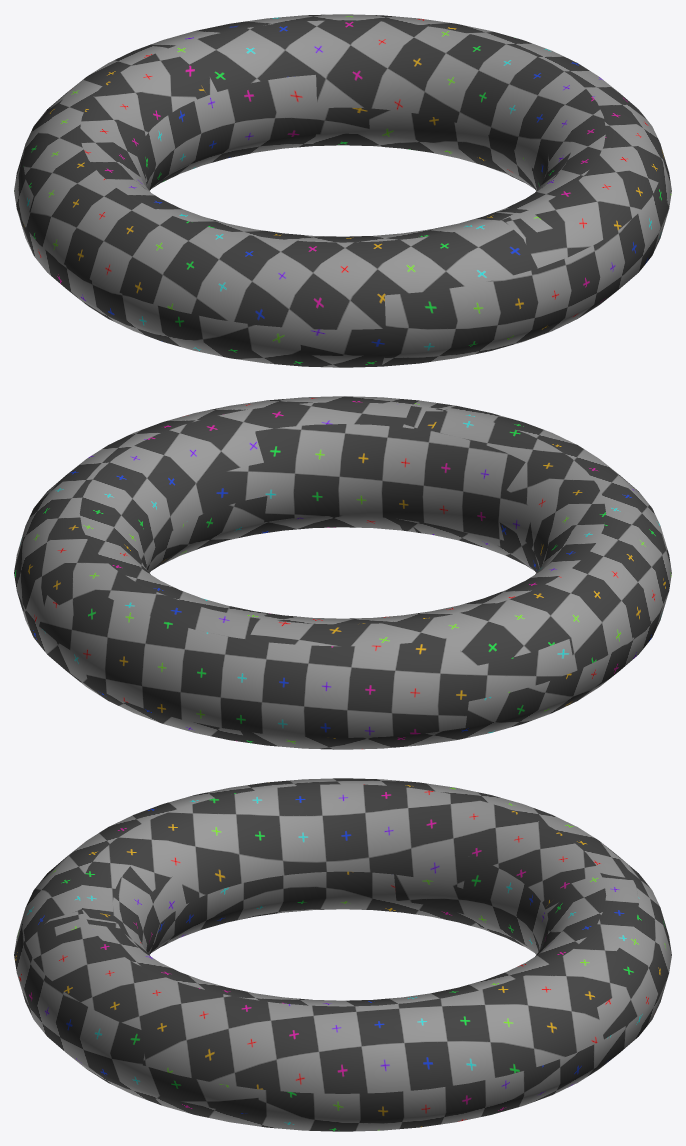
3 renders of one model, top to bottom at view 1: azimuth 30°, elevation 25°; view 2: azimuth 150°, elevation 25°; view 3: azimuth 270°, elevation 25°, orthographic.
Visible parts, largest first — view 1: Torus; view 2: Torus; view 3: Torus.
Part boxes in pixels (x1,y1,x2,y2): Torus: (14,14,671,367); Torus: (14,396,671,749); Torus: (14,778,671,1131).
Size of the model in its own units: 2.5 by 0.5 by 2.5.
1 material, 1 textured.
